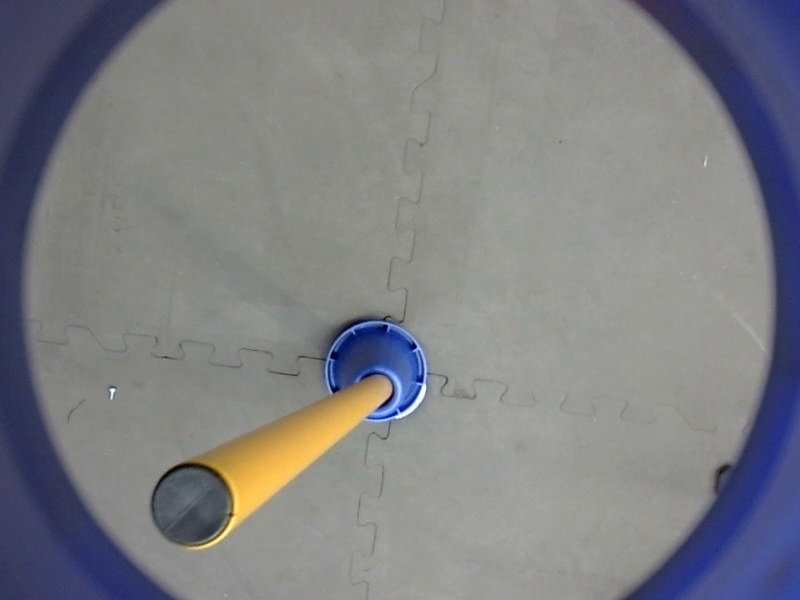tip: (143, 455, 243, 556)
